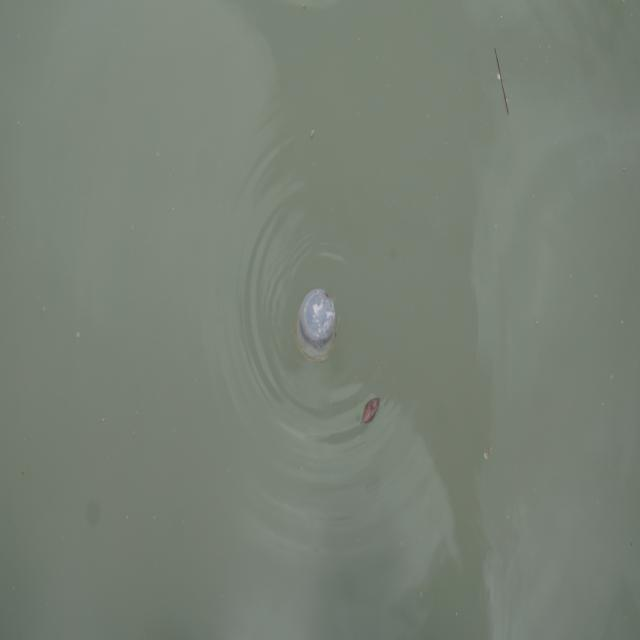Bungkus Minuman: (297, 283, 340, 367)
